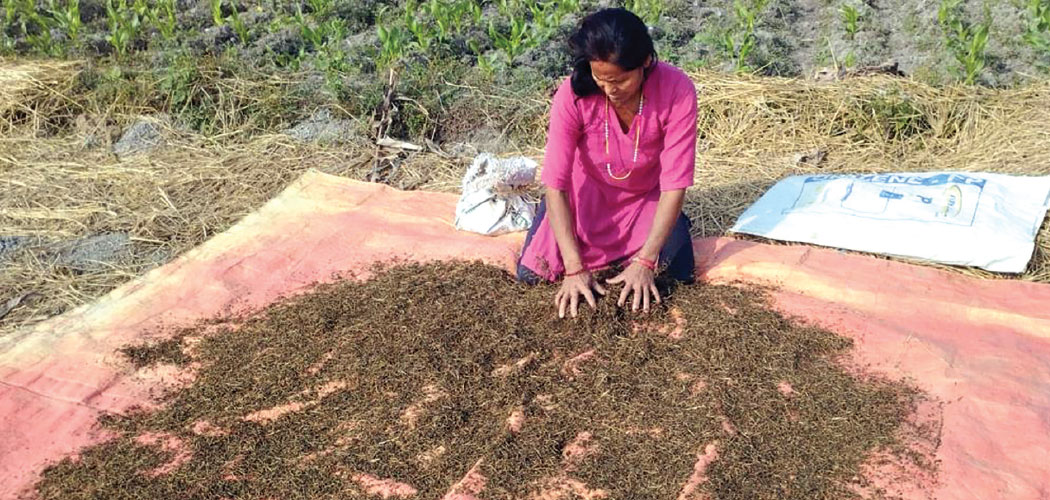gundruk: (91, 259, 945, 485)
